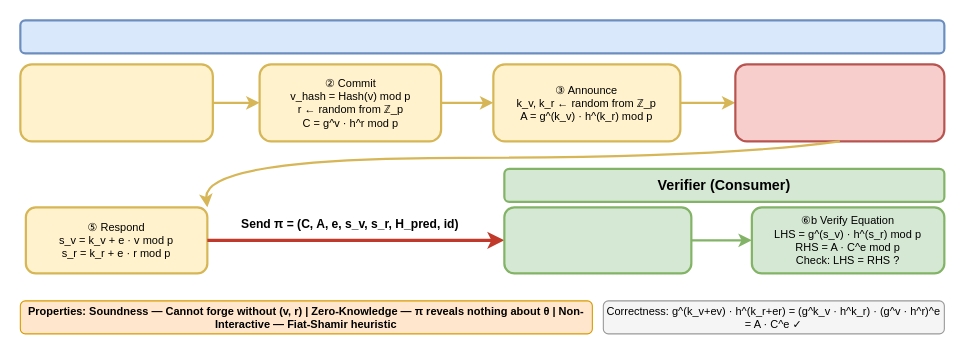
This 964x353 diagram has some shape labels left out. Each missing label, with the centre of its shape:
Prover (Model Owner): the point at 482,36
① Predict t̂ = argmax f_θ(h, r, t') s = f_θ(h, r, t̂) v = [e_h ‖ e_r ‖ e_t̂]: the point at 116,102
④ Challenge (Fiat-Shamir) H_pred = Hash(h‖r‖t‖s) e = Hash(C‖A‖H_pred‖id) mod p: the point at 839,102
⑥a Recompute Challenge e' = Hash(C‖A‖H_pred‖id) mod p Check: e' = e ?: the point at 597,240
